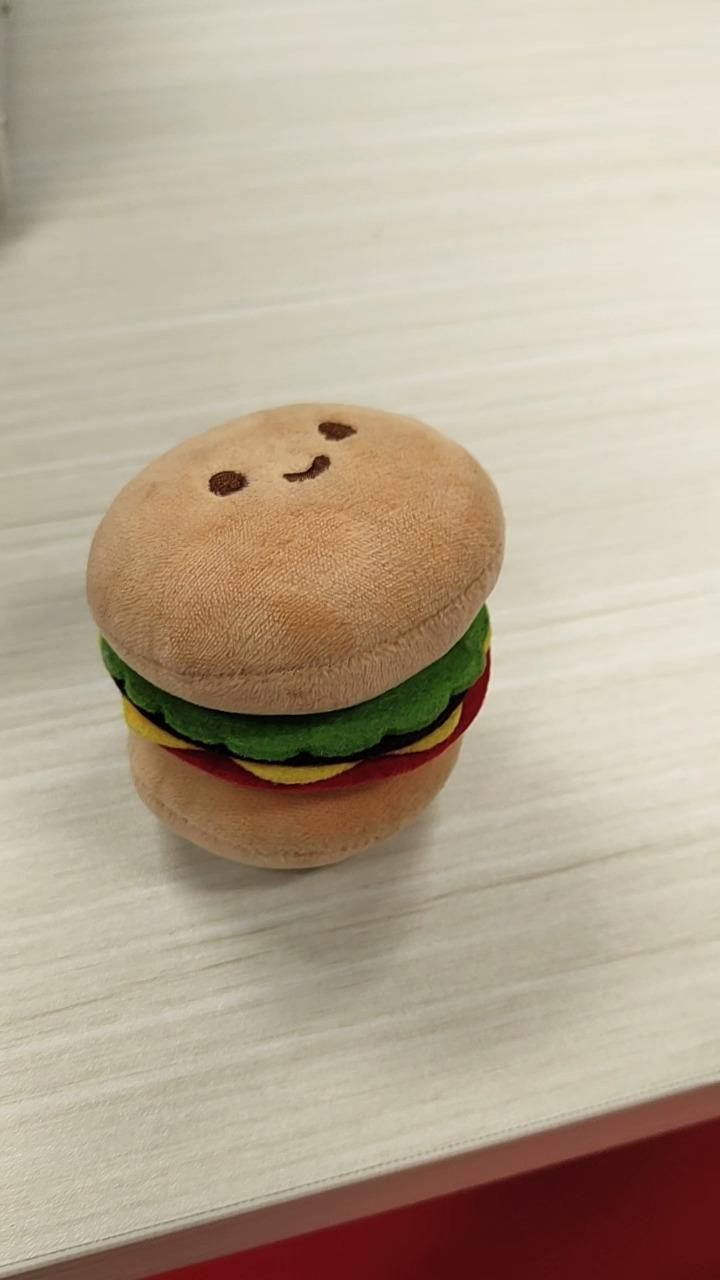hamburger: (84, 400, 506, 872)
